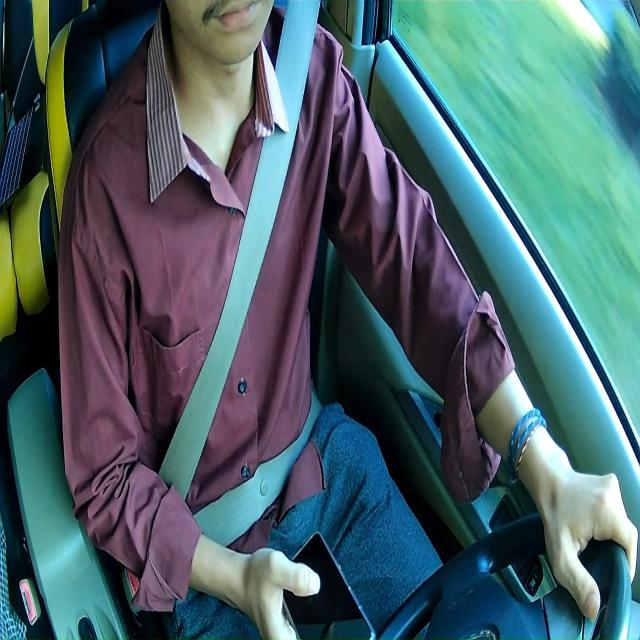phone: (280, 526, 378, 640)
